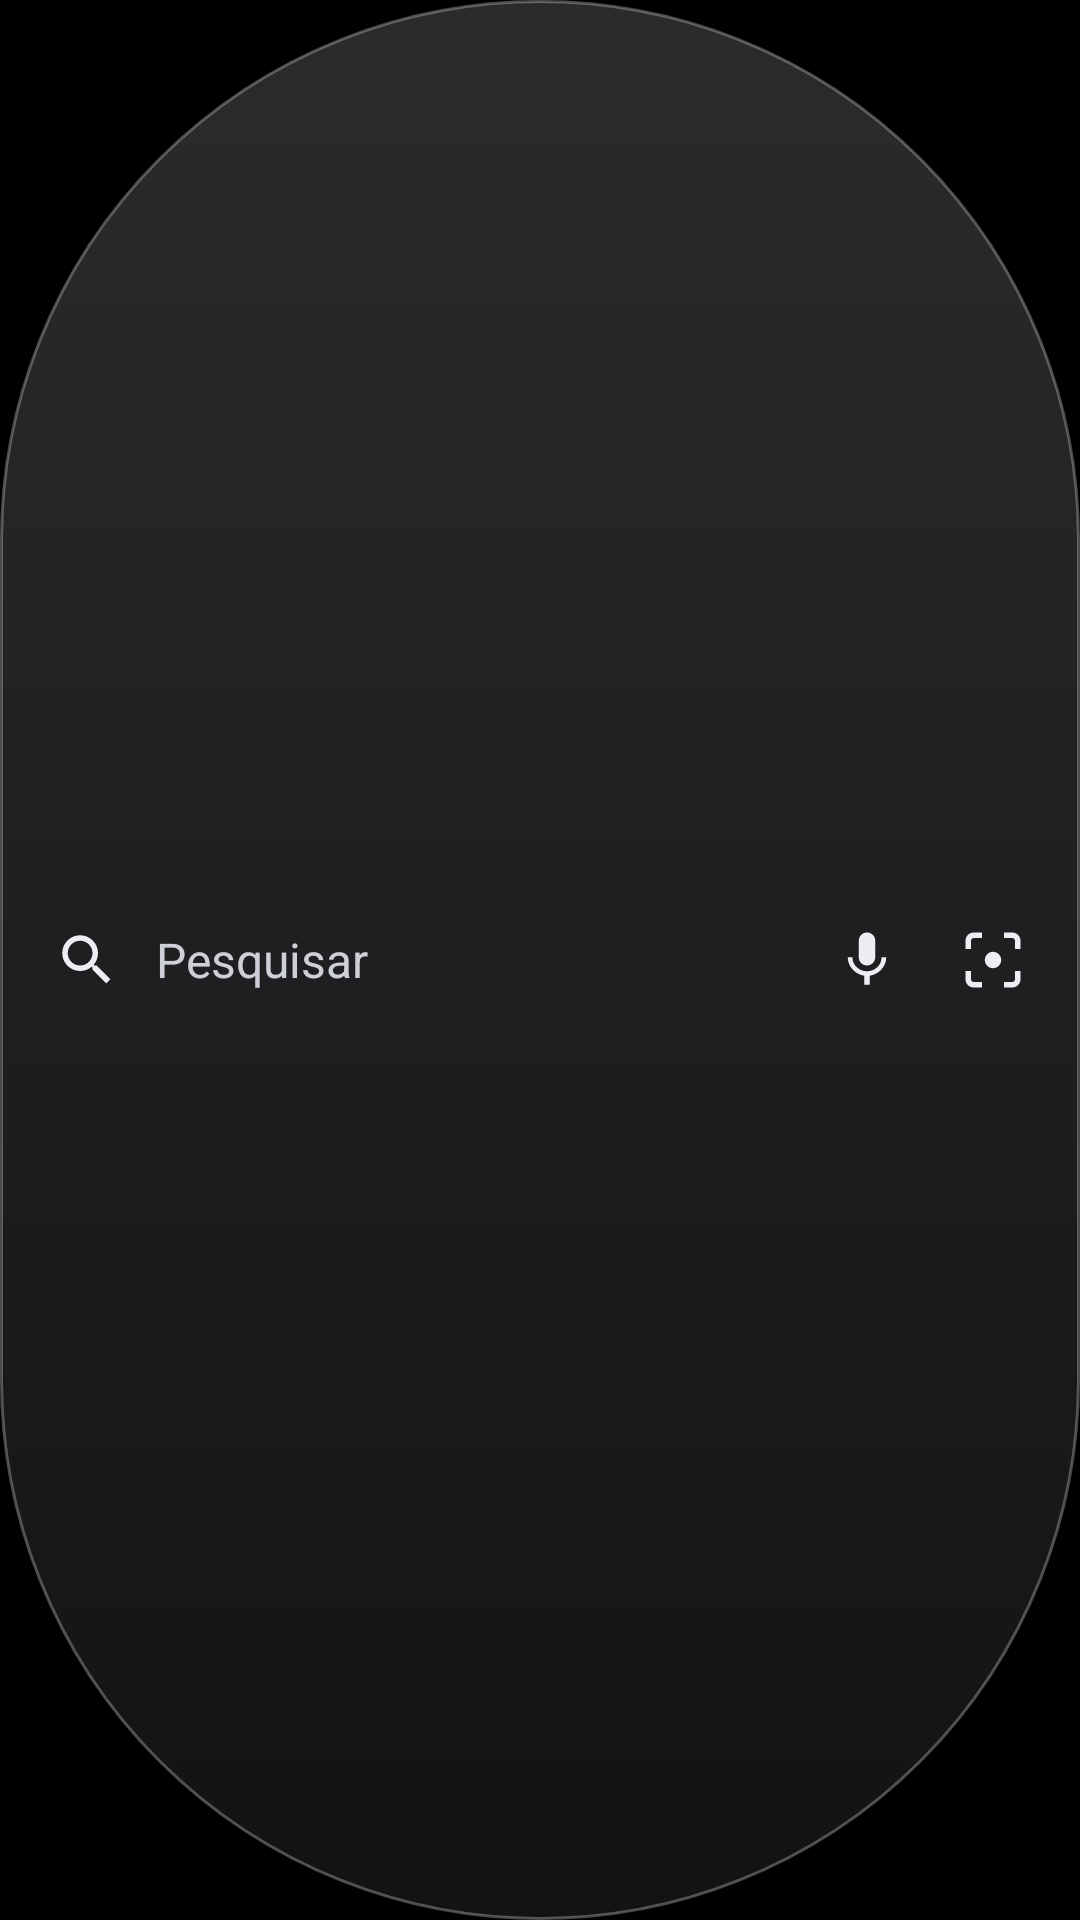

Where icons sit on this 1080 x 1920 app screen, as [x1, y1, x2, y2]:
lens: [965, 932, 1021, 988]
mic: [847, 932, 887, 985]
search: [62, 935, 111, 984]
